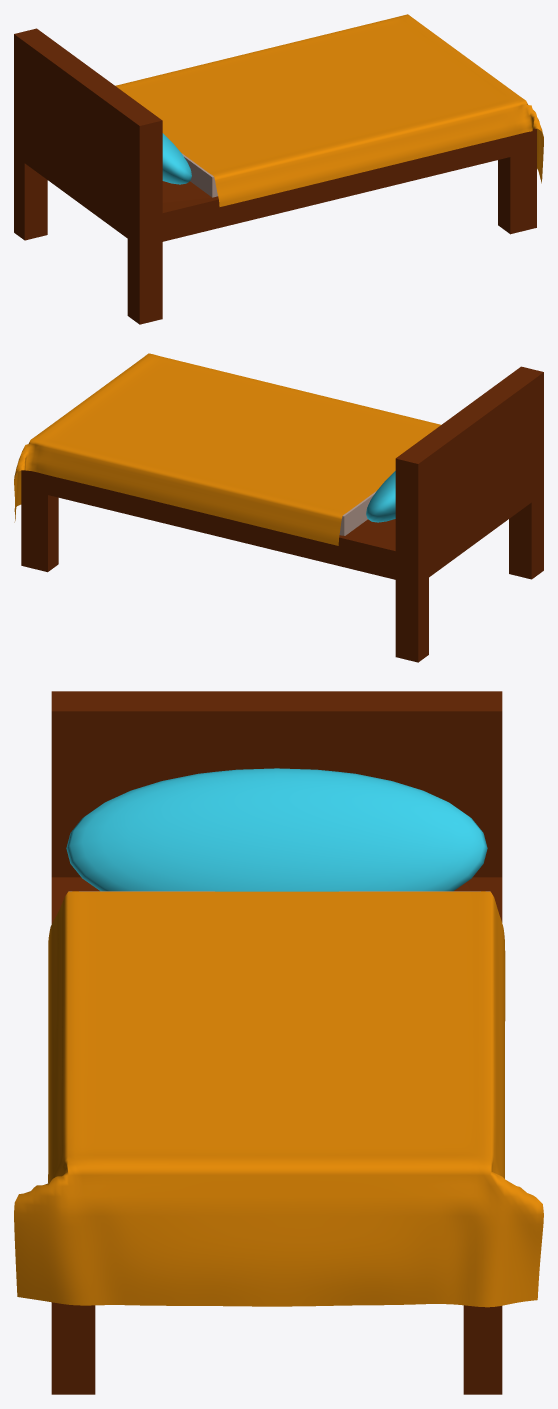
Rendered from Bed.fbx.
The picture shows the model from 3 angles, top to bottom: view 1: azimuth 30°, elevation 25°; view 2: azimuth 150°, elevation 25°; view 3: azimuth 270°, elevation 25°; orthographic projection. The views are drawn at different scales.
Parts seen in each view (by area): view 1: Plane, Cube, Sphere; view 2: Plane, Cube, Sphere; view 3: Plane, Cube, Sphere.
Part boxes in pixels (x1,y1,x2,y2): Plane: (115, 14, 543, 206); Cube: (14, 28, 536, 324); Sphere: (162, 133, 191, 184); Plane: (14, 353, 440, 545); Cube: (21, 366, 543, 662); Sphere: (366, 471, 395, 522); Plane: (14, 891, 543, 1307); Cube: (51, 691, 502, 1394); Sphere: (66, 768, 487, 891).
Bounding box in the file's own units: 2969 × 1386 × 1871.
